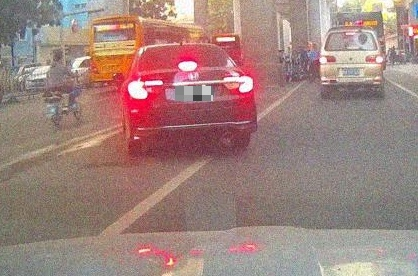L_light: (128, 80, 163, 100), (320, 56, 336, 63)
R_light: (223, 76, 254, 93), (365, 55, 383, 63)
T_light: (178, 61, 196, 71), (346, 33, 354, 35)
day-brake: (320, 25, 383, 99)
day-left: (127, 43, 258, 154)
plate_1: (175, 86, 213, 101)
